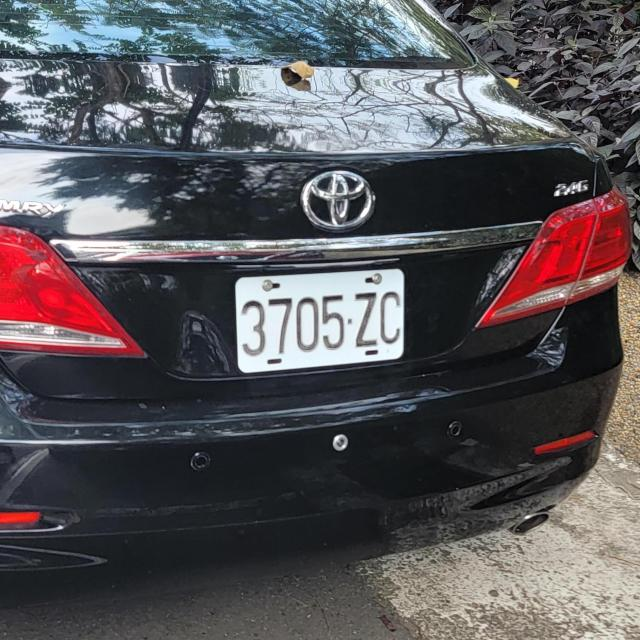W: (230, 263, 415, 378)
